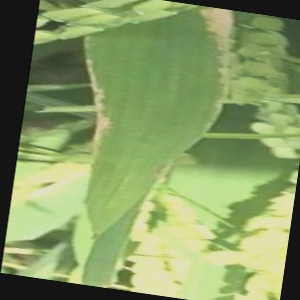Leaf_Blast: (80, 34, 162, 206)
